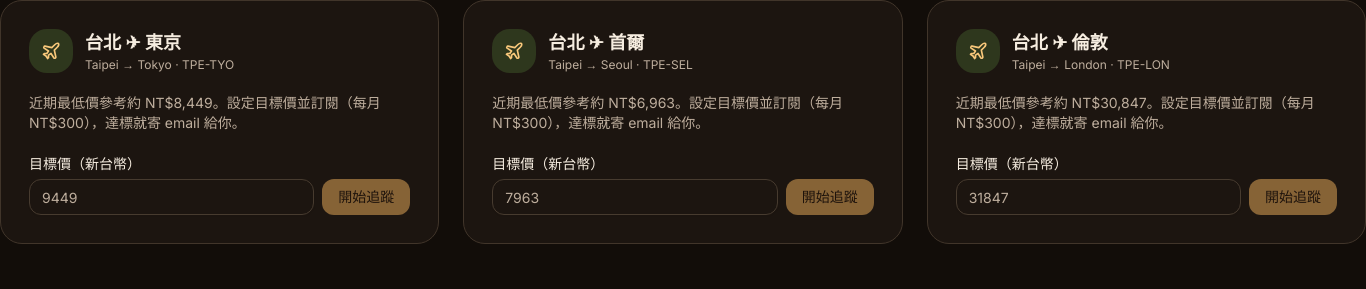
PlanCards › shows the API error message when saving fails
The width and height of the screenshot is (1366, 289).
Type "5000" into the number field labelled "目標價（新台幣）" below "NT$8,449".
click(172, 197); type("5000")  # box [29,179,314,215]
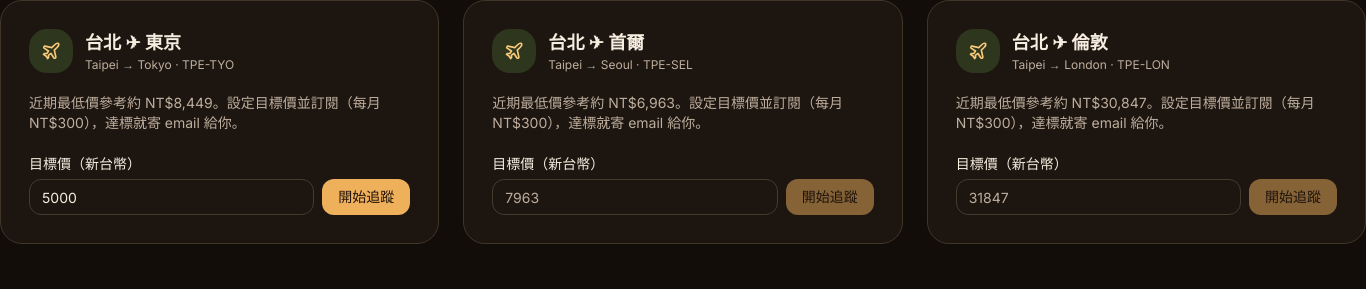
Click the button "開始追蹤" below "NT$8,449".
click(366, 197)  # box [322,179,410,215]
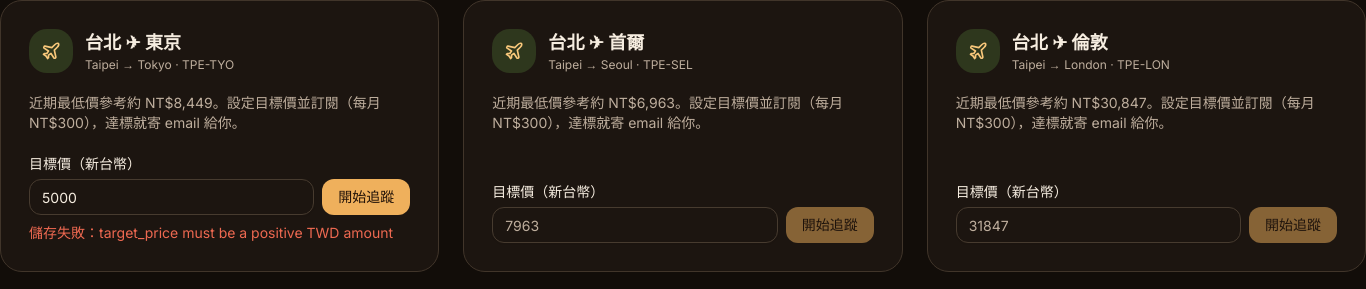
Now the message shows "target_price must be a positive TWD amount", box [29,224,393,241]
